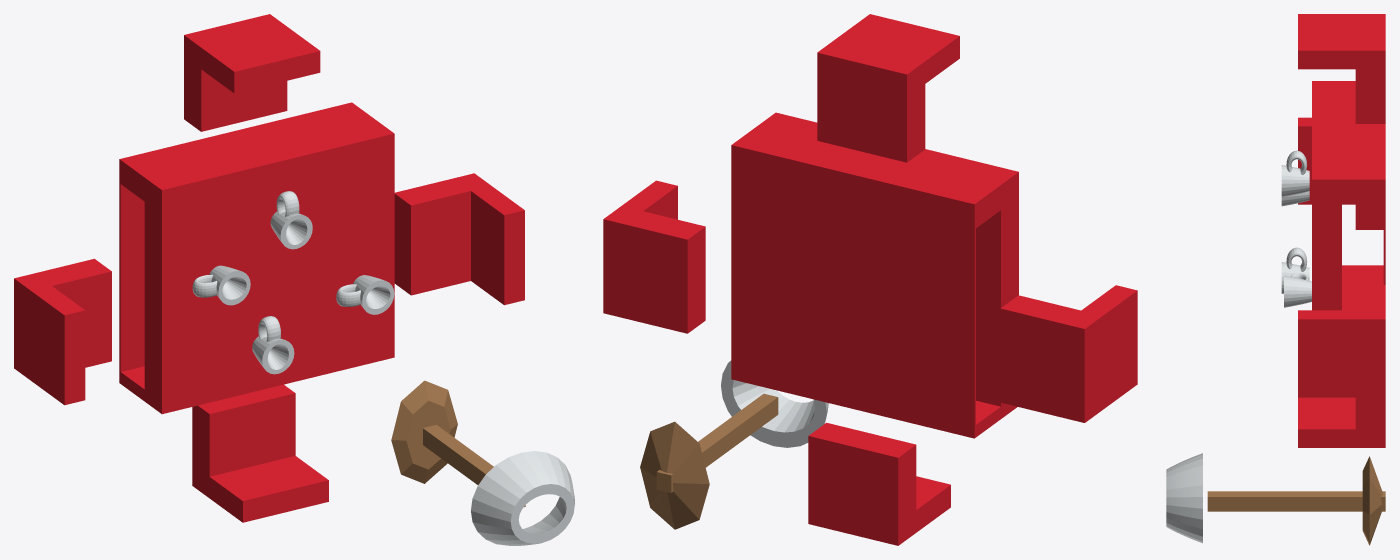
File: tinker.obj
3 renders of one model, left to right at view 1: azimuth 30°, elevation 25°; view 2: azimuth 150°, elevation 25°; view 3: azimuth 270°, elevation 25°, orthographic. The views are drawn at different scales.
Parts seen in each view (by area): view 1: group_0_15277357, group_0_14541540, group_0_11107152; view 2: group_0_15277357, group_0_11107152, group_0_14541540; view 3: group_0_15277357, group_0_14541540, group_0_11107152.
Part boxes in pixels (bbox=[...]): group_0_15277357: bbox=[14, 14, 524, 522]; group_0_14541540: bbox=[192, 191, 574, 545]; group_0_11107152: bbox=[391, 380, 525, 506]; group_0_15277357: bbox=[603, 14, 1137, 545]; group_0_11107152: bbox=[640, 393, 778, 529]; group_0_14541540: bbox=[721, 360, 828, 447]; group_0_15277357: bbox=[1298, 14, 1385, 447]; group_0_14541540: bbox=[1166, 150, 1311, 543]; group_0_11107152: bbox=[1207, 456, 1385, 545].
Bounding box in the file's own units: 200 × 207 × 95.
